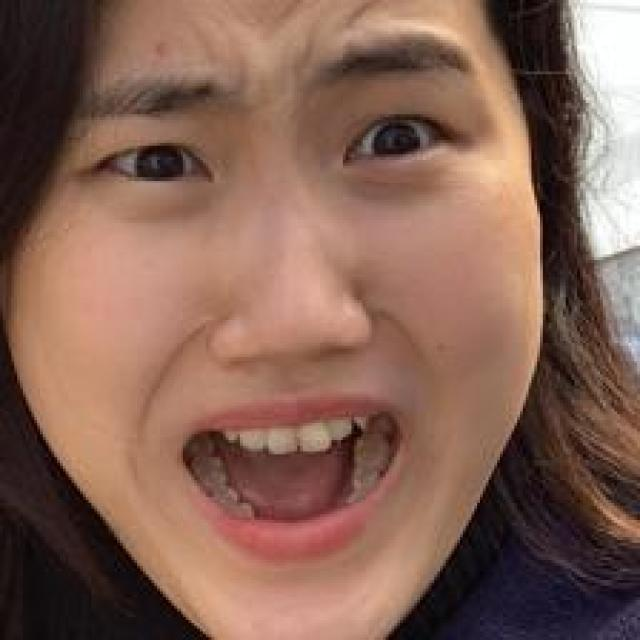fear: (66, 51, 545, 626)
